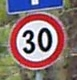limite 30: (8, 11, 66, 69)
